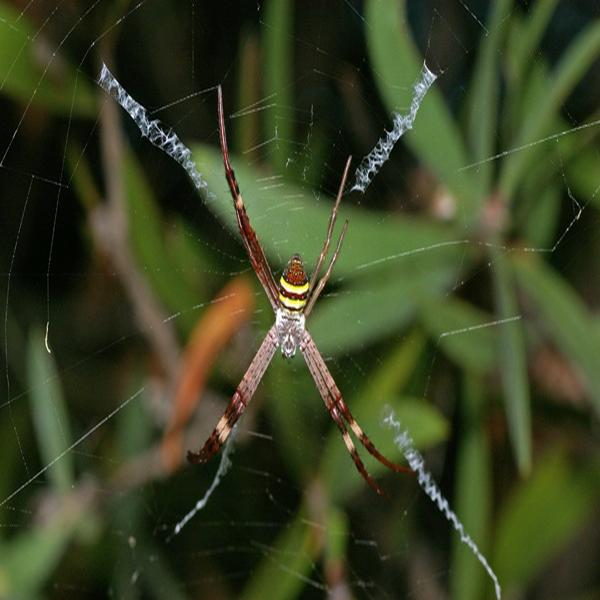St Andrew's Cross Spider: (196, 89, 401, 489)
